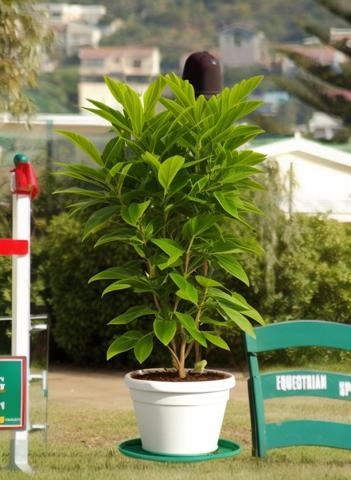person: (97, 51, 223, 266)
pottedplant: (46, 73, 265, 456)
